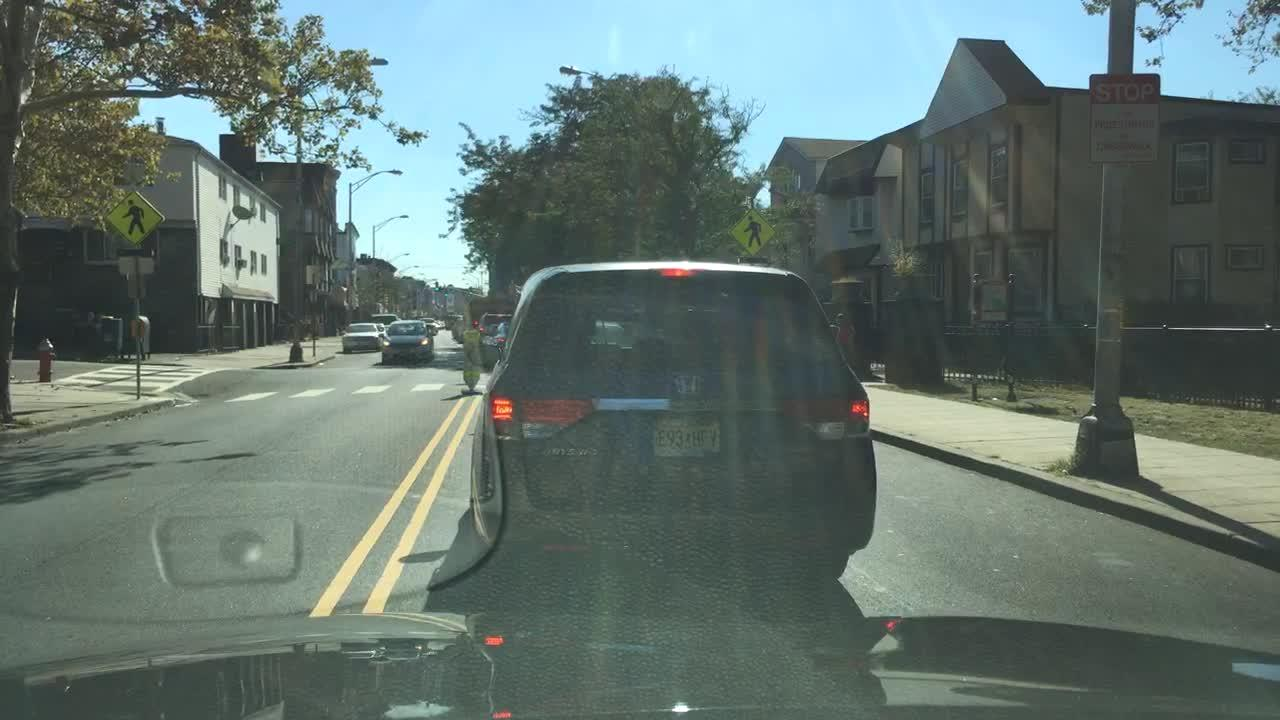Honda: (669, 370, 706, 398)
